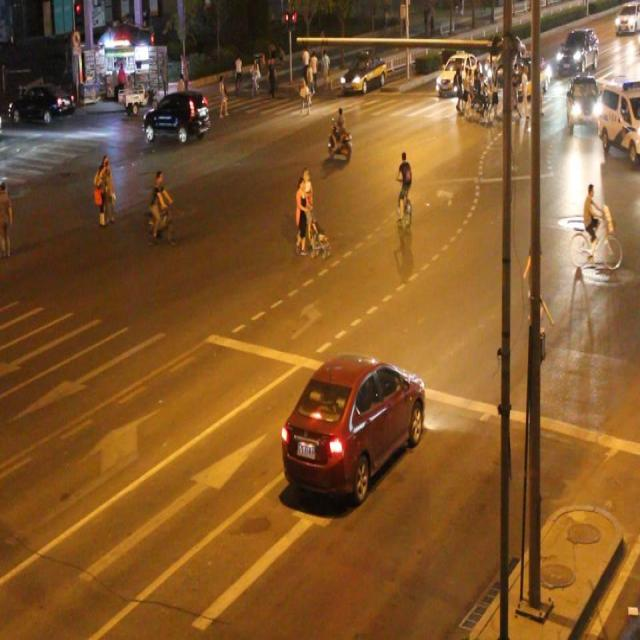car: (279, 352, 428, 503), (594, 79, 640, 162), (142, 91, 210, 146), (562, 75, 600, 130)
